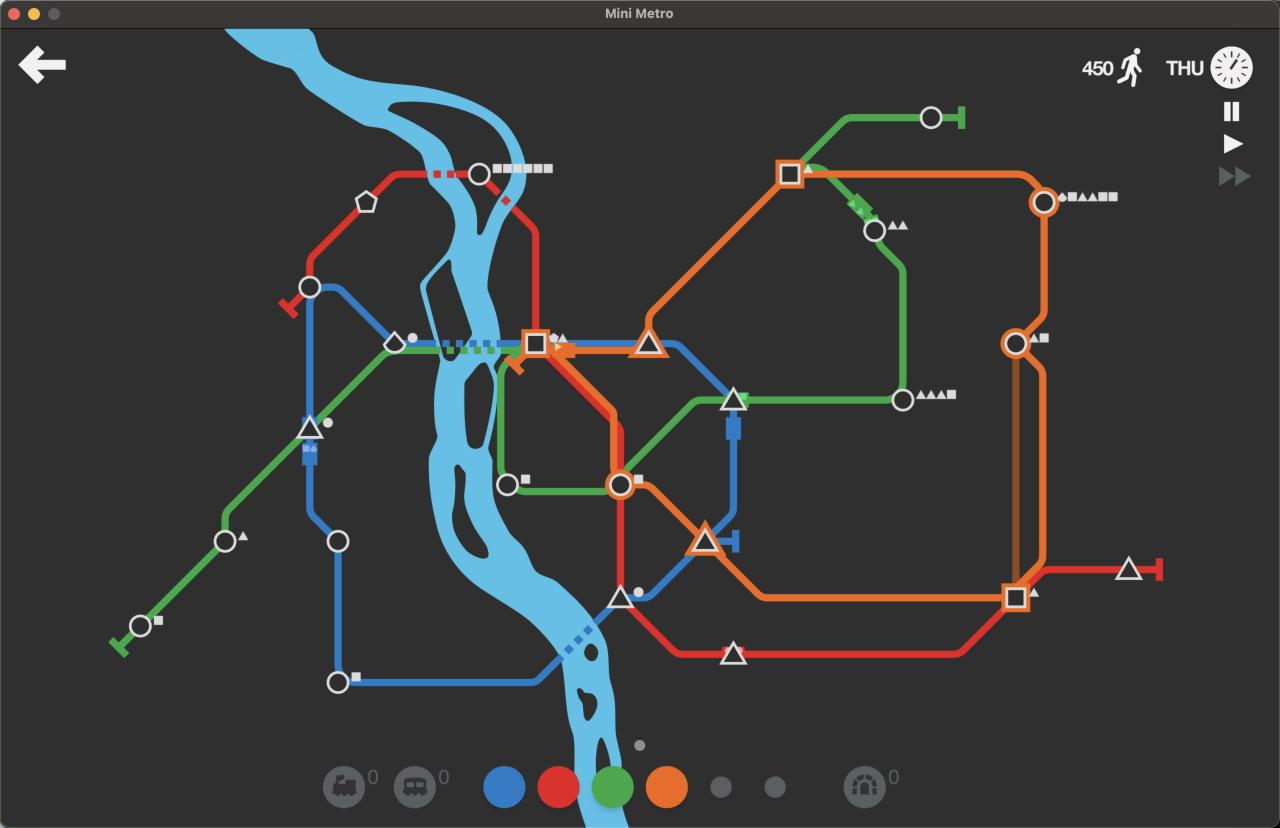CIRCLE: (1001, 328, 1029, 359), (606, 470, 635, 499), (1030, 189, 1058, 216), (891, 387, 915, 413), (863, 218, 887, 243), (495, 472, 519, 497), (213, 529, 237, 554), (326, 670, 350, 695), (326, 529, 350, 554), (467, 162, 491, 186), (128, 614, 152, 638), (920, 105, 943, 130), (298, 275, 321, 299)
PENTAGON: (354, 190, 378, 214)
SQUARE: (777, 160, 802, 187), (524, 330, 548, 355), (1004, 586, 1029, 610)
TRIANGLE: (631, 327, 668, 358), (688, 525, 722, 555), (606, 584, 636, 611), (718, 385, 748, 412), (719, 639, 748, 666), (1114, 555, 1144, 581), (296, 414, 324, 439)
WEDGE: (382, 330, 406, 354)
